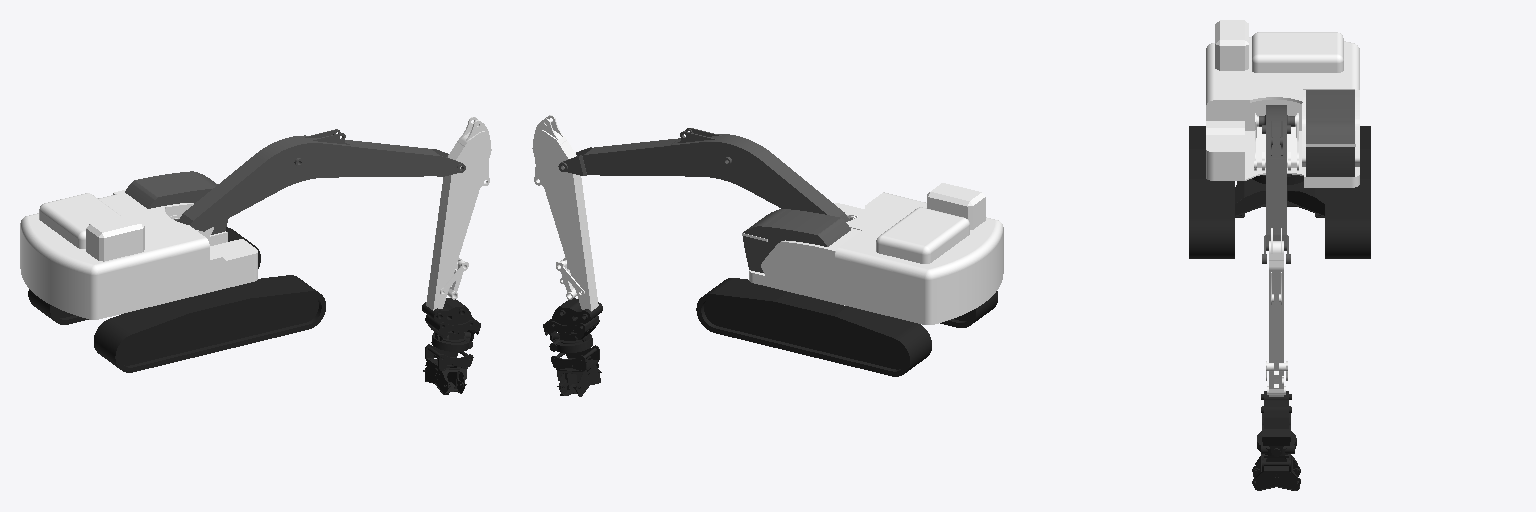
The robot description file, URDF, robot "EXCAVATOR_CONEXPO":
<?xml version="1.0"?>

<robot name="EXCAVATOR_CONEXPO" xmlns:xacro="http://www.ros.org/wiki/xacro">

<!-- 
Cordinate frame definition
Marked ||  (Link)   |        |  (Link)
Point  ||  Parent   | Joint  |  Child 
==========================================
    Z  || cs_ground | origin | base_link 
    O  || base_link | swing  | cs_cor 
    A  || cs_cor    | boom   | cs_boom 
    D  || cs_boom   | arm    | cs_arm 
    I  || cs_arm    | bucket | cs_bucket 
       || cs_bucket | tilt   | cs_tilt 
       || cs_tilt   | rotate | cs_rotate 
       || cs_rotate | tip    | cs_tip1 
-->

<!-- Predefine Colors -->
    <material name="black">
        <color rgba="0.0 0.0 0.0 1.0"/>
    </material>

    <material name="dark">
        <color rgba="0.2 0.2 0.2 1.0"/>
    </material>

    <material name="dark_grey">
        <color rgba="0.4 0.4 0.4 1.0"/>
    </material>

    <material name="grey">
        <color rgba="0.6 0.6 0.6 1.0"/>
    </material>

    <material name="white">
        <color rgba="1.0 1.0 1.0 1.0"/>
    </material>

    <material name="red">
        <color rgba="0.8 0.0 0.0 1.0"/>
    </material>

    <material name="green">
        <color rgba="0.0 0.8 0.0 1.0"/>
    </material>

    <material name="blue">
        <color rgba="0.0 0.0 0.8 1.0"/>
    </material>

    <material name="orange">
        <color rgba="1.0 0.4 0.04 1.0"/>
    </material>

<!-- ############# Define Link & Joint ############# -->

    <!-- Origin -->
    <link name="cs_ground"/>

    <joint name="lower_body_joint" type="fixed">
        <parent link="cs_ground"/>
        <child link="base_link"/>
        <origin rpy="0 0 0" xyz="0 0 0"/>
    </joint>

    <link name="base_link">
        <visual>
            <origin rpy="0 0 0" xyz="0 0 1.0670"/>
            <geometry>
                <mesh filename="assets/excavator_3/EX_CX_Lower.stl" scale="0.001 0.001 0.001"/>
            </geometry>
            <material name="dark"/>
        </visual>
    </link>

    <!-- Swing joint -->
    <joint name="upper_body_joint" type="revolute">
        <parent link="base_link"/>
        <child link="cs_cor"/>
        <origin rpy="0 0 0" xyz="0 0 1.0670"/>
        <axis xyz="0 0 1"/>
        <limit lower="-100" upper="100" velocity="0.1" effort="100"/>
    </joint>

    <link name="cs_cor">
        <visual>
            <origin rpy="0 0 0" xyz="0 0 0"/>
            <geometry>
                <mesh filename="assets/excavator_3/EX_CX_Body.stl" scale="0.001 0.001 0.001"/>
            </geometry>
            <material name="white"/>
        </visual>
    </link>

    <joint name="cover_a_joint" type="fixed">
        <parent link="cs_cor"/>
        <child link="cover_a"/>
        <origin rpy="0 0 0" xyz="0 0 0"/>
    </joint>

    <link name="cover_a">
        <visual>
            <origin rpy="0 0 0" xyz="0 0 0"/>
            <geometry>
                <mesh filename="assets/excavator_3/EX_CX_CoverA.stl" scale="0.001 0.001 0.001"/>
            </geometry>
            <material name="dark_grey"/>
        </visual>
    </link>

    <joint name="cover_b_joint" type="fixed">
        <parent link="cs_cor"/>
        <child link="cover_b"/>
        <origin rpy="0 0 0" xyz="0 0 0"/>
    </joint>

    <link name="cover_b">
        <visual>
            <origin rpy="0 0 0" xyz="0 0 0"/>
            <geometry>
                <mesh filename="assets/excavator_3/EX_CX_CoverB.stl" scale="0.001 0.001 0.001"/>
            </geometry>
            <material name="white"/>
        </visual>
    </link>

    <!-- Boom joint -->
    <joint name="boom_joint" type="revolute">
        <parent link="cs_cor"/>
        <child link="cs_boom"/>
        <origin rpy="0 1.07374 0" xyz="0.117 -0.06 0.738"/>
        <axis xyz="0 -1 0"/>
        <limit lower="-0.59" upper="1.39" velocity="0.1" effort="100"/>
    </joint>

    <link name="cs_boom">
        <visual>
            <origin rpy="0 0 0" xyz="-0.117 0.06 -0.738"/>
            <geometry>
                <mesh filename="assets/excavator_3/EX_CX_Boom.stl" scale="0.001 0.001 0.001"/>
            </geometry>
            <material name="dark_grey"/>
        </visual>
    </link>

    <!-- ARM joint -->
    <joint name="arm_joint" type="revolute">
        <parent link="cs_boom"/>
        <child link="cs_arm"/>
        <origin rpy="0 -2.7182 0" xyz="2.718 0 5.0103"/>
        <axis xyz="0 -1 0"/>
        <limit lower="-2.8" upper="-0.65" velocity="0.1" effort="100"/>
    </joint>

    <link name="cs_arm">
        <visual>
            <origin rpy="0 0 0" xyz="-2.835 0.06 -5.7483"/>
            <geometry>
                <mesh filename="assets/excavator_3/EX_CX_Arm.stl" scale="0.001 0.001 0.001"/>
            </geometry>
            <material name="white"/>
        </visual>
    </link>

    <!-- Bucket joint -->
    <joint name="bucket_joint" type="revolute"> <!-- Point D -->
        <parent link="cs_arm"/>
        <child link="cs_bucket"/>
        <origin rpy="0 0.075 0" xyz="-0.2142 0 -2.9029"/>
        <axis xyz="0 -1 0"/>
        <limit lower="-2.495" upper="0.75" velocity="0.1" effort="100"/>
    </joint>

    <link name="cs_bucket"> <!-- Link DT -->
        <visual>
            <origin rpy="1.5707 0 -1.5707" xyz="0.15 0 -0.2"/>
            <geometry>
                <mesh filename="assets/excavator_3/EX_CX_TR_Upper.stl" scale="0.001 0.001 0.001"/>
            </geometry>
            <material name="dark"/>
        </visual>
    </link>

    <!-- Tilt joint -->
    <joint name="tilt_joint" type="revolute"> <!-- Point T -->
        <parent link="cs_bucket"/>
        <child link="cs_tilt"/>
        <origin rpy="0 -1.5707963267948966 0" xyz="0 0 -0.5548"/>
        <axis xyz="0 0 1"/>
        <!-- <limit lower="-0.7" upper="0.7" velocity="0.1" effort="100"/> -->
        <!-- set conservative limit for stable tilt joint control -->
        <!-- <limit lower="-0.31" upper="0.31" velocity="0.1" effort="100"/> -->
        <limit lower="-0.35" upper="0.35" velocity="0.1" effort="100"/>
    </joint>

    <link name="cs_tilt"> <!-- Link TU -->
        <visual>
            <origin rpy="3.141592653589793 -1.5707963267948966 0" xyz="0.0 0 -0.47"/>
            <geometry>
                <mesh filename="assets/excavator_3/EX_CX_TR_Mid.stl" scale="0.001 0.001 0.001"/>
            </geometry>
            <material name="dark"/>
        </visual>
    </link>

    <!-- Rotate joint -->
    <joint name="rotate_joint" type="revolute"> <!-- Point U -->
        <parent link="cs_tilt"/>
        <child link="cs_rotate"/>
        <origin rpy="3.141592653589793 -1.5707963267948966 0" xyz="0.0 0 -0.47"/>
        <axis xyz="0 0 1" />
        <limit lower="-100" upper="100" velocity="0.1" effort="100"/>
    </joint>

    <link name="cs_rotate"> <!-- Link UV -->
        <visual>
            <origin rpy="0 0 0" xyz="0 0 -0.105"/>
            <geometry>
                <mesh filename="assets/excavator_3/EX_CX_TR_Lower.stl" scale="1 1 1"/>
            </geometry>
            <material name="dark"/>
        </visual>
    </link>

    <!-- Grip body joint -->
    <joint name="Gripbody_joint" type="fixed"> 
        <parent link="cs_rotate"/>
        <child link="grip_body"/>
        <origin rpy="-1.555796 0 -1.570796" xyz="0.009 0 -0.529" />       
    </joint>

    <link name="grip_body"> 
        <visual>
            <origin rpy="0 0 0" xyz="0 0 0"/>
            <geometry>
                <mesh filename="assets/excavator_3/StoneGrab_Body.stl" scale="1 1 1"/>
            </geometry>
            <material name="dark"/>
        </visual>
    </link>
    
</robot>

--- What the picture shows (computed from the rendered views, not written in the file) ---
The picture shows the robot from 3 angles, left to right: view 1: azimuth 30°, elevation 25°; view 2: azimuth 150°, elevation 25°; view 3: azimuth 270°, elevation 25°; orthographic projection.
Robot: EXCAVATOR_CONEXPO — 11 links, 10 joints (6 revolute, 4 fixed); root link cs_ground; default pose: all joints at 0 but 1 set to mid-range because 0 is outside their limits (arm_joint = -1.73).
Links seen in each view (by area): view 1: cs_cor, base_link, cs_boom, cs_arm, cover_a, grip_body, cs_bucket, cs_tilt, cover_b; view 2: cs_cor, base_link, cs_boom, cs_arm, cover_a, cover_b, grip_body, cs_bucket, cs_tilt; view 3: cs_cor, base_link, cover_a, cs_boom, cs_arm, cs_bucket, grip_body, cover_b.
Link boxes in pixels (left/top/right/bottom): cs_cor: left=20, top=193, right=257, bottom=319; base_link: left=28, top=227, right=325, bottom=372; cs_boom: left=174, top=129, right=465, bottom=231; cs_arm: left=426, top=117, right=491, bottom=310; cover_a: left=125, top=171, right=227, bottom=234; grip_body: left=423, top=344, right=473, bottom=394; cs_bucket: left=422, top=298, right=480, bottom=340; cs_tilt: left=431, top=332, right=472, bottom=351; cover_b: left=113, top=180, right=216, bottom=237; cs_cor: left=749, top=183, right=1003, bottom=324; base_link: left=696, top=278, right=997, bottom=376; cs_boom: left=558, top=128, right=852, bottom=221; cs_arm: left=532, top=115, right=598, bottom=311; cover_a: left=743, top=209, right=850, bottom=272; cover_b: left=742, top=216, right=860, bottom=292; grip_body: left=551, top=345, right=601, bottom=396; cs_bucket: left=543, top=298, right=602, bottom=341; cs_tilt: left=549, top=333, right=592, bottom=352; cs_cor: left=1206, top=20, right=1359, bottom=187; base_link: left=1189, top=126, right=1370, bottom=258; cover_a: left=1306, top=90, right=1354, bottom=176; cs_boom: left=1259, top=105, right=1294, bottom=263; cs_arm: left=1266, top=228, right=1287, bottom=396; cs_bucket: left=1261, top=391, right=1291, bottom=455; grip_body: left=1252, top=454, right=1300, bottom=490; cover_b: left=1302, top=90, right=1359, bottom=166.
Size in the robot's own frame: 9.4 by 3.19 by 5.74 metres.
9 mesh visuals loaded from 10 distinct referenced files (9 binary STL); not drawn: 1 (reference not matched to a file when rendering).
